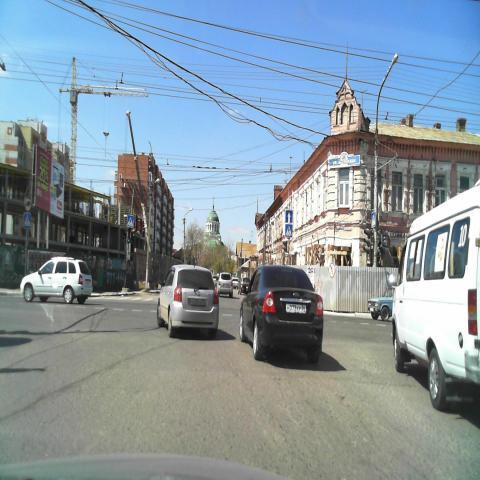3_4_1: (24, 196, 32, 211)
5_19_1: (24, 212, 32, 229), (285, 224, 293, 238), (126, 215, 134, 228), (371, 213, 377, 228)
5_5: (285, 210, 293, 222)
